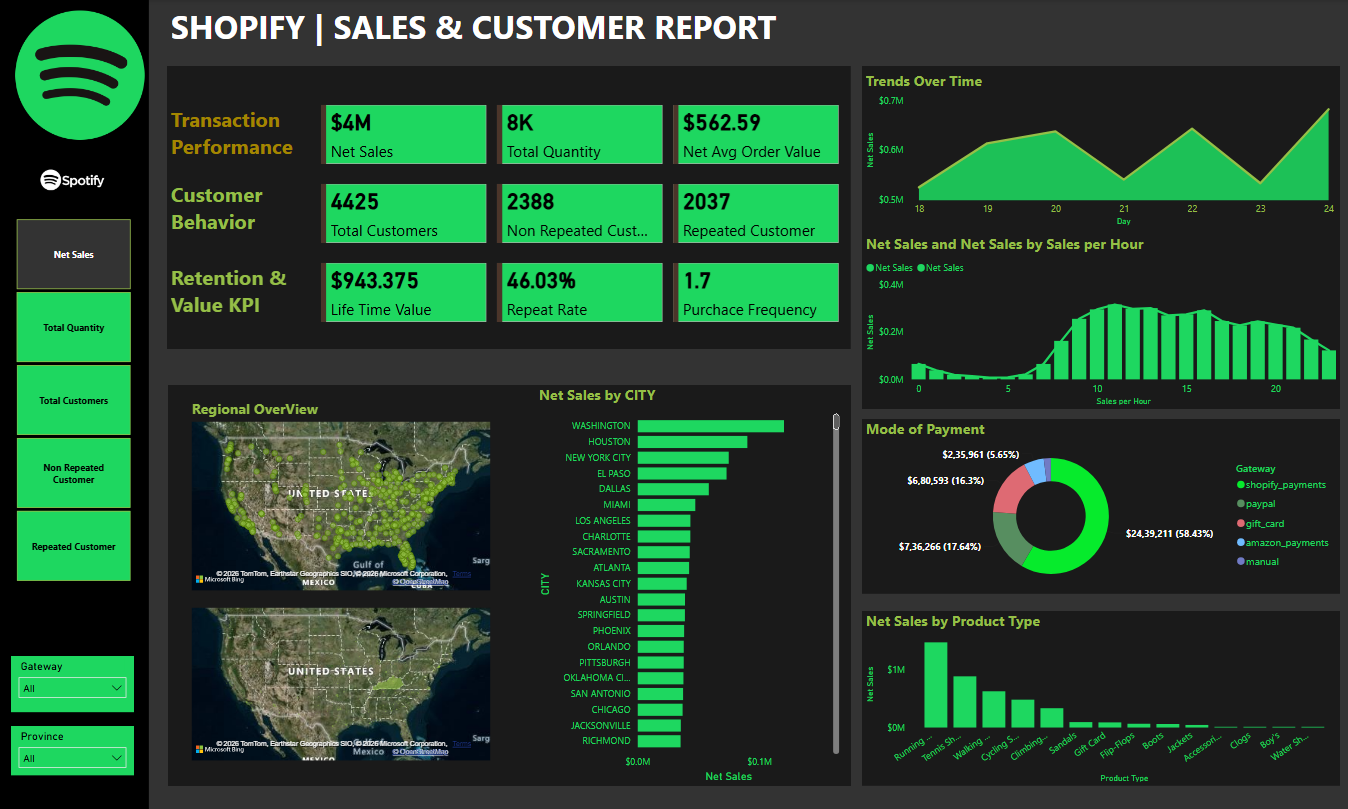

This screenshot's page, from the dashboard's own definition file:
{"tool":"powerbi","page":{"name":"Page 1","canvas":[1780,1080],"ordinal":0},"visuals":[{"type":"shape","box":[0,0,200,1080.8],"z":0},{"type":"textbox","box":[223.9,0,835,86.9],"z":1000},{"type":"shape","box":[224.6,86.4,900.7,372.6],"z":2000},{"type":"cardVisual","fields":{"Data":["shopify_sales.Total Customers","shopify_sales.Non Repeated Customer","shopify_sales.Repeated Customer"]},"box":[422,236.9,693.4,88.8],"z":3000},{"type":"textbox","box":[224.3,133.6,198,88.3],"z":4000},{"type":"cardVisual","fields":{"Data":["shopify_sales.Net Sales","shopify_sales.Total Quantity","shopify_sales.Net Avg Order Value"]},"box":[422,133.3,693.4,88.8],"z":5000},{"type":"textbox","box":[224.6,232,172.7,93.8],"z":6000},{"type":"cardVisual","fields":{"Data":["shopify_sales.Life Time Value","shopify_sales.Repeat Rate","shopify_sales.Purchace Frequency"]},"box":[422,340.5,693.4,88.8],"z":7000},{"type":"textbox","box":[224.6,340.5,172.7,88.8],"z":8000},{"type":"shape","box":[225.2,507.1,899.6,528.1],"z":9000},{"type":"map","title":"Regional OverView","fields":{"Category":["shopify_sales.Location"]},"box":[251.6,525.5,403,256.8],"z":10000},{"type":"clusteredBarChart","fields":{"Y":["shopify_sales.Net Sales"],"Category":["shopify_sales.CITY"]},"box":[708.6,507.1,405.7,528.1],"z":11000},{"type":"slicer","fields":{"Values":["Select Measure.Select Measure"]},"box":[0,282,200,490],"z":12000},{"type":"shape","box":[1139.3,86.9,629.6,451.8],"z":13000},{"type":"areaChart","title":"Trends Over Time","fields":{"Y":["shopify_sales.Net Sales"],"Category":["shopify_sales.Invoice Date.Variation.Date Hierarchy.Day"]},"box":[1139.3,93.5,629.6,208.1],"z":14000},{"type":"lineStackedColumnComboChart","fields":{"Y":["shopify_sales.Net Sales"],"Y2":["shopify_sales.Net Sales"],"Category":["shopify_sales.Sales per Hour"]},"box":[1139.3,308.2,629.6,230.5],"z":15000},{"type":"shape","box":[1139.3,804.7,629.6,230.5],"z":16000},{"type":"shape","box":[1139.3,551.9,629.6,230.5],"z":17000},{"type":"donutChart","title":"Mode of Payment","fields":{"Y":["shopify_sales.Net Sales"],"Category":["shopify_sales.Gateway"]},"box":[1139.3,551.9,629.6,230.5],"z":18000},{"type":"columnChart","fields":{"Y":["shopify_sales.Net Sales"],"Category":["shopify_sales.Product Type"]},"box":[1139.3,804.7,629.6,230.5],"z":19000},{"type":"filledMap","fields":{"Category":["shopify_sales.Location"]},"box":[251.6,795.5,403,210.7],"z":20000},{"type":"slicer","fields":{"Values":["shopify_sales.Gateway"]},"box":[18.4,864,162,73.8],"z":21000},{"type":"slicer","fields":{"Values":["shopify_sales.Billing Address Province"]},"box":[18.4,956.2,162,64.5],"z":22000},{"type":"image","box":[9.2,0,200.2,197.6],"z":23000},{"type":"image","box":[23.7,184.4,151.5,105.4],"z":23001}]}

Visuals, with their boxes in screenshot pixels (x1, y1, x2, y2), scaled from the page's 1780x1080 canvas onto the 1348x809 screenshot:
shape: left=0, top=0, right=151, bottom=808
textbox: left=170, top=0, right=802, bottom=65
shape: left=170, top=65, right=852, bottom=344
cardVisual - shopify_sales.Total Customers x shopify_sales.Non Repeated Customer: left=320, top=177, right=845, bottom=244
textbox: left=170, top=100, right=320, bottom=166
cardVisual - shopify_sales.Net Sales x shopify_sales.Total Quantity: left=320, top=100, right=845, bottom=166
textbox: left=170, top=174, right=301, bottom=244
cardVisual - shopify_sales.Life Time Value x shopify_sales.Repeat Rate: left=320, top=255, right=845, bottom=322
textbox: left=170, top=255, right=301, bottom=322
shape: left=171, top=380, right=852, bottom=775
"Regional OverView" map: left=191, top=394, right=496, bottom=586
clusteredBarChart - shopify_sales.Net Sales x shopify_sales.CITY: left=537, top=380, right=844, bottom=775
slicer - Select Measure.Select Measure: left=0, top=211, right=151, bottom=578
shape: left=863, top=65, right=1340, bottom=404
"Trends Over Time" areaChart: left=863, top=70, right=1340, bottom=226
lineStackedColumnComboChart - shopify_sales.Net Sales x shopify_sales.Net Sales: left=863, top=231, right=1340, bottom=404
shape: left=863, top=603, right=1340, bottom=775
shape: left=863, top=413, right=1340, bottom=586
"Mode of Payment" donutChart: left=863, top=413, right=1340, bottom=586
columnChart - shopify_sales.Net Sales x shopify_sales.Product Type: left=863, top=603, right=1340, bottom=775
filledMap - shopify_sales.Location: left=191, top=596, right=496, bottom=754
slicer - shopify_sales.Gateway: left=14, top=647, right=137, bottom=702
slicer - shopify_sales.Billing Address Province: left=14, top=716, right=137, bottom=765
image: left=7, top=0, right=159, bottom=148
image: left=18, top=138, right=133, bottom=217
